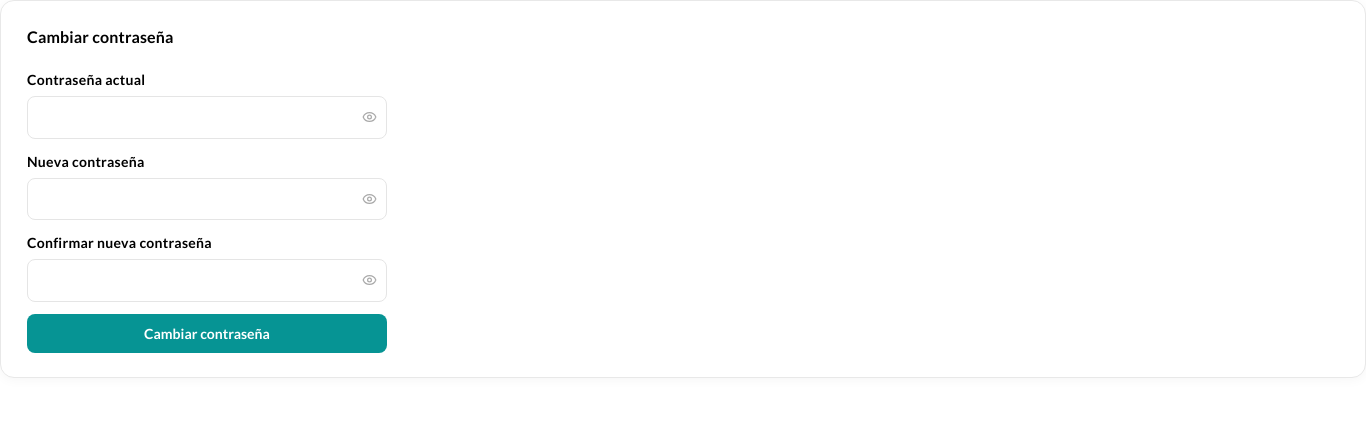
Scenario: SecuritySection (cambiar contraseña del admin) › muestra el error del backend si la contraseña actual es incorrecta
Type "NoEsLaClave1" into the password field labelled "Contraseña actual". click: (207, 117)
box: [27,96,387,138]
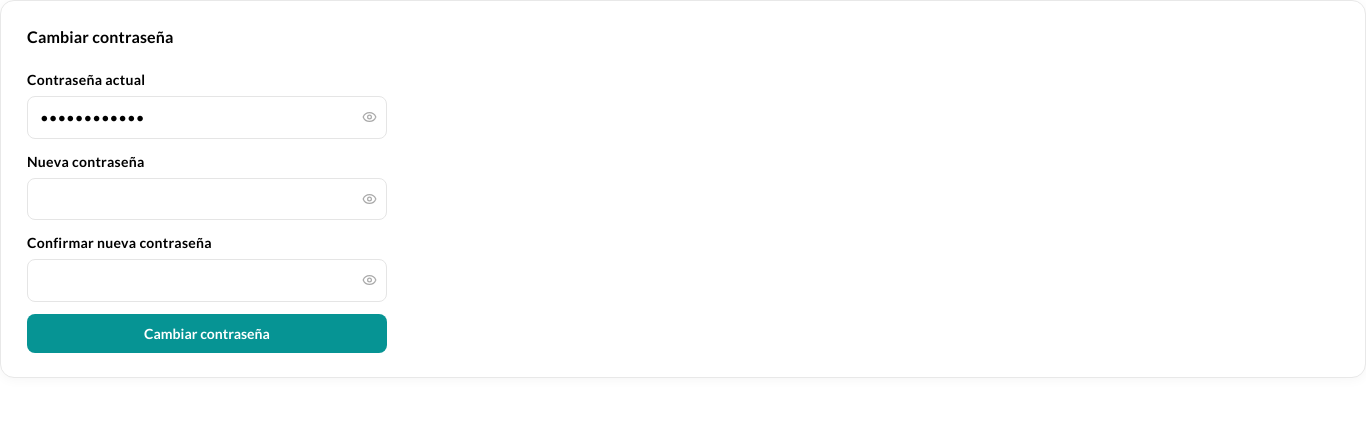
Type "ClaveNueva123" into the password field labelled "Nueva contraseña". click: (207, 199)
box: [27,178,387,220]
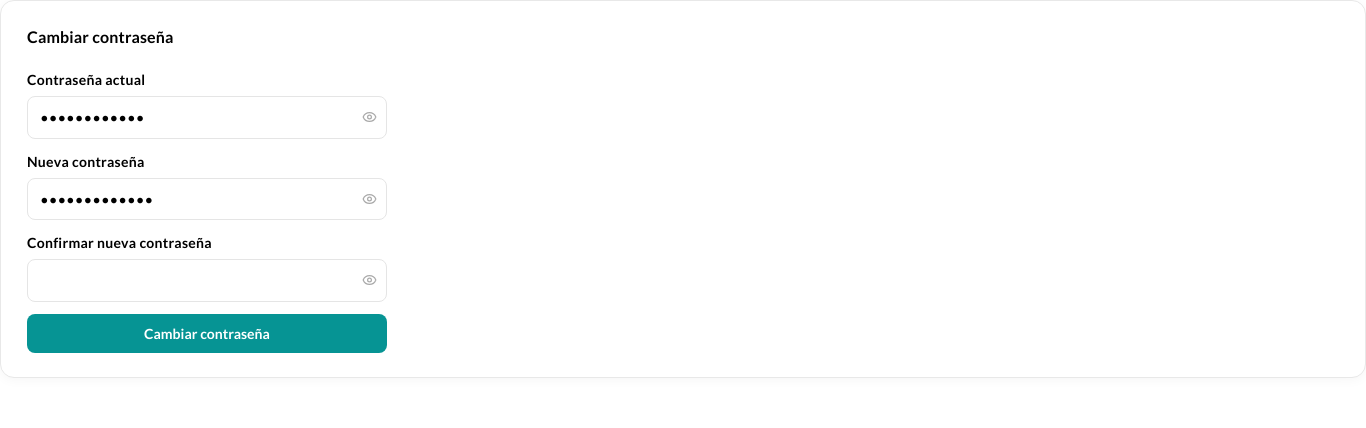
Type "ClaveNueva123" into the password field labelled "Confirmar nueva contraseña". click: (207, 280)
box: [27,259,387,302]
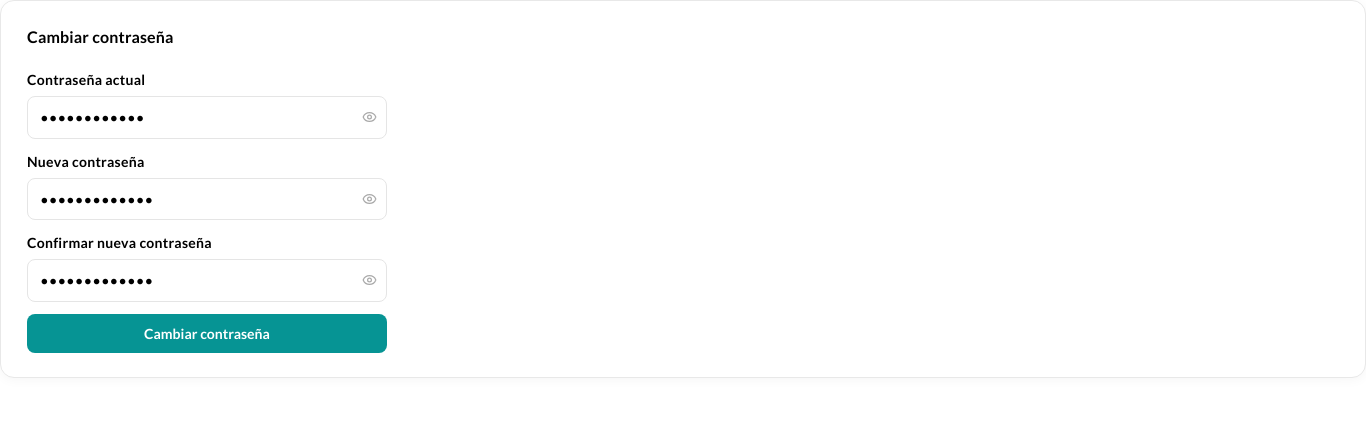
Click the button "Cambiar contraseña". click: (207, 333)
box: [27,314,387,352]
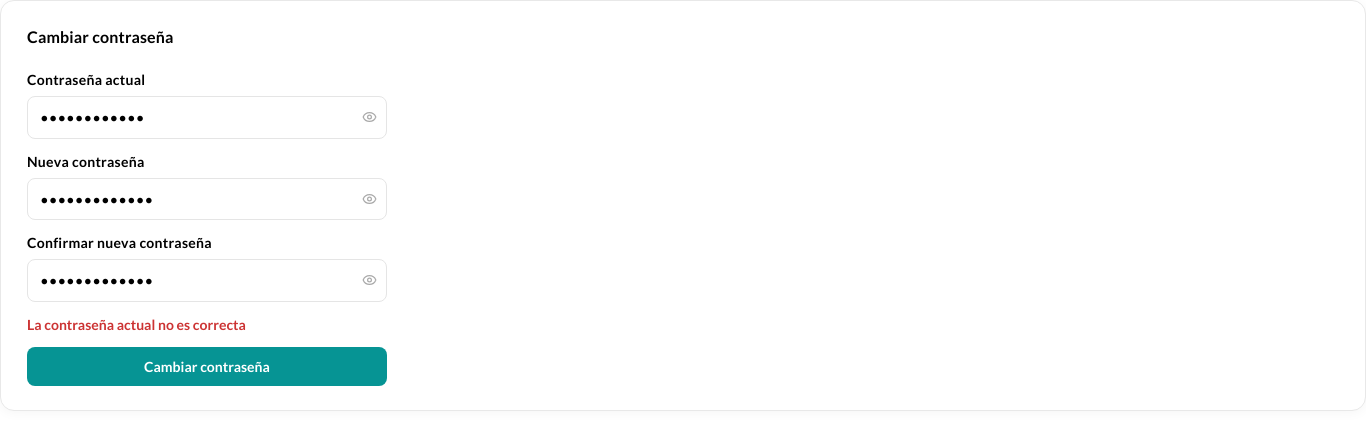
Result: the text "La contraseña actual no es correcta" is shown at [27,316,246,332]
